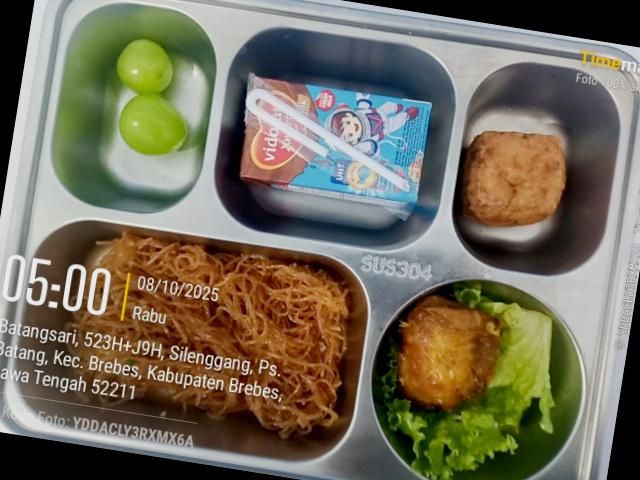ayam: (397, 296, 500, 410), (476, 302, 553, 432)
buah: (116, 39, 187, 156)
mie: (68, 233, 348, 437)
susu: (239, 73, 431, 219)
tahu: (460, 131, 565, 227)
